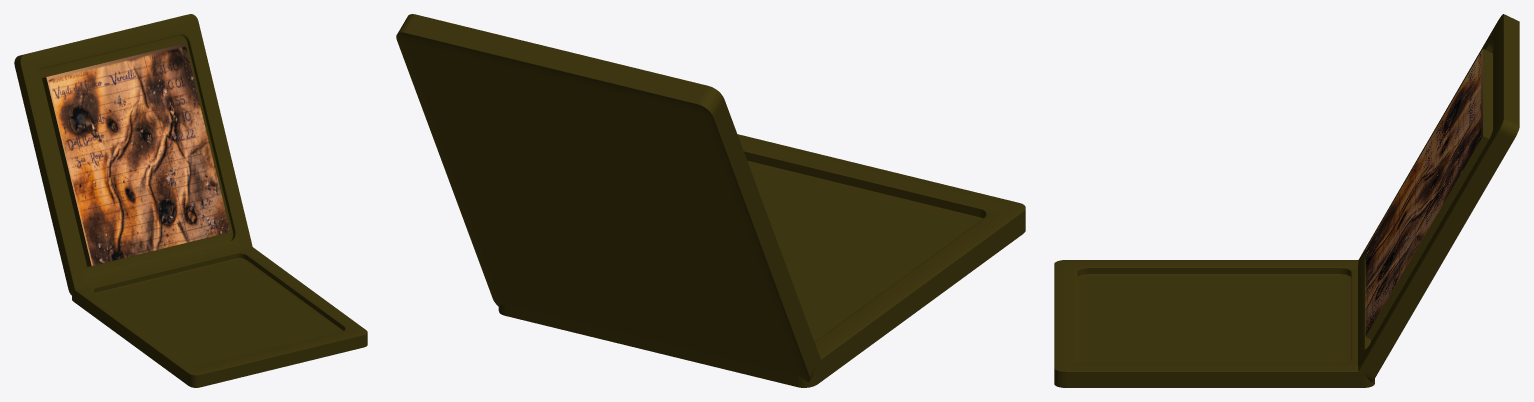
File: rubrica-present.glb
3 renders of one model, left to right at view 1: azimuth 30°, elevation 25°; view 2: azimuth 150°, elevation 25°; view 3: azimuth 270°, elevation 25°, orthographic. The views are drawn at different scales.
Parts seen in each view (by area): view 1: rubrica-present; view 2: rubrica-present; view 3: rubrica-present.
Part boxes in pixels (x1=…): rubrica-present: x1=14, y1=14, x2=367, y2=387; rubrica-present: x1=396, y1=14, x2=1025, y2=387; rubrica-present: x1=1054, y1=14, x2=1519, y2=387.
Size of the model in its own units: 1.27 by 1.41 by 2.24.
2 materials, 1 textured.
